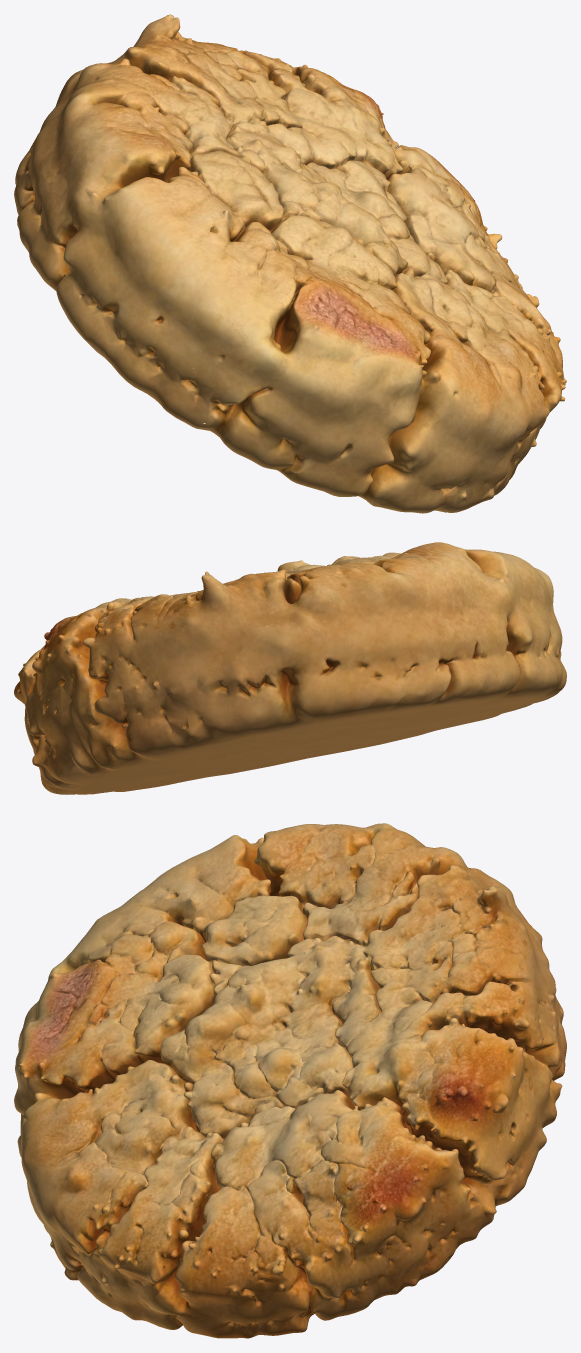
Rendered from biscuit_original.glb.
3 renders of one model, top to bottom at view 1: azimuth 30°, elevation 25°; view 2: azimuth 150°, elevation 25°; view 3: azimuth 270°, elevation 25°, orthographic. The views are drawn at different scales.
Visible parts, largest first — view 1: tripo_node_e3350e30-114a-40ef-8404-46f0651a8e3f; view 2: tripo_node_e3350e30-114a-40ef-8404-46f0651a8e3f; view 3: tripo_node_e3350e30-114a-40ef-8404-46f0651a8e3f.
Part boxes in pixels (x1,y1,x2,y2): tripo_node_e3350e30-114a-40ef-8404-46f0651a8e3f: (14, 14, 566, 513); tripo_node_e3350e30-114a-40ef-8404-46f0651a8e3f: (14, 542, 566, 794); tripo_node_e3350e30-114a-40ef-8404-46f0651a8e3f: (14, 823, 566, 1338).
Bounding box in the file's own units: 0.9787 × 0.7044 × 0.9765.
1 material, 1 textured.
